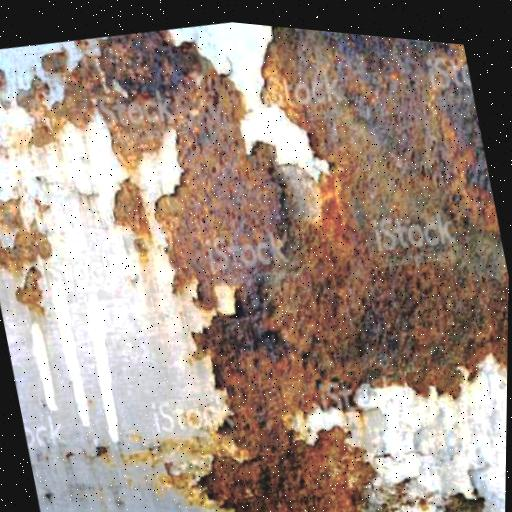corrosion: (245, 24, 512, 433), (5, 9, 275, 254), (135, 198, 323, 438), (171, 392, 397, 512), (0, 176, 64, 322)
